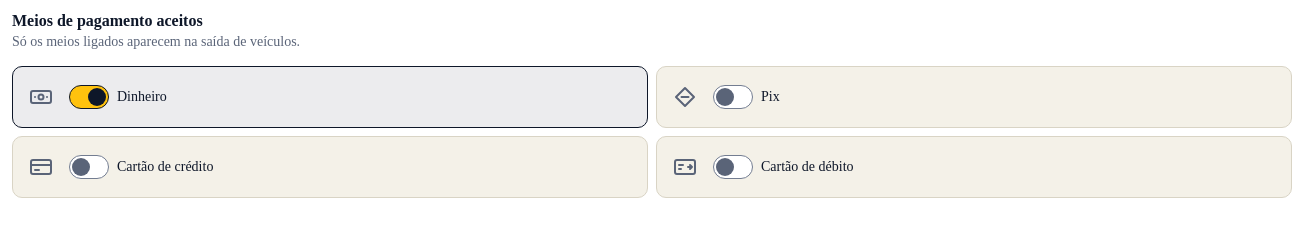
Test: PagamentosFields › mostra o erro do conjunto ao desligar o último meio e o liga ao grupo
Click the switch named "Dinheiro" at (89, 97), box [69, 85, 109, 109]
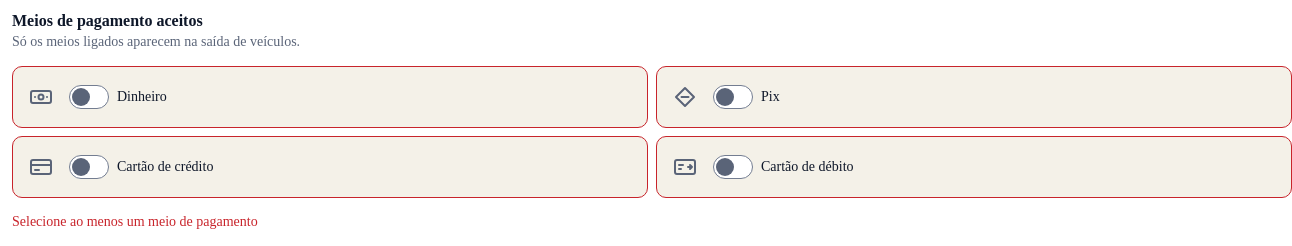
expect the message reads "Selecione ao menos um meio de pagamento": met, box [12, 214, 258, 229]
